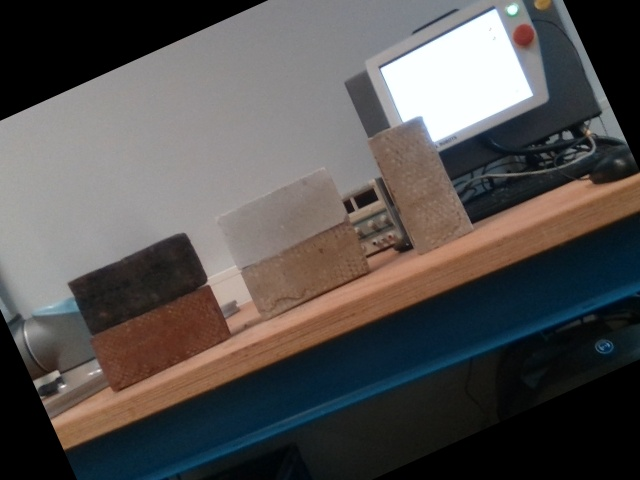brick: (368, 117, 473, 253), (70, 231, 206, 332), (91, 288, 227, 389), (213, 166, 349, 267), (242, 221, 370, 318)
